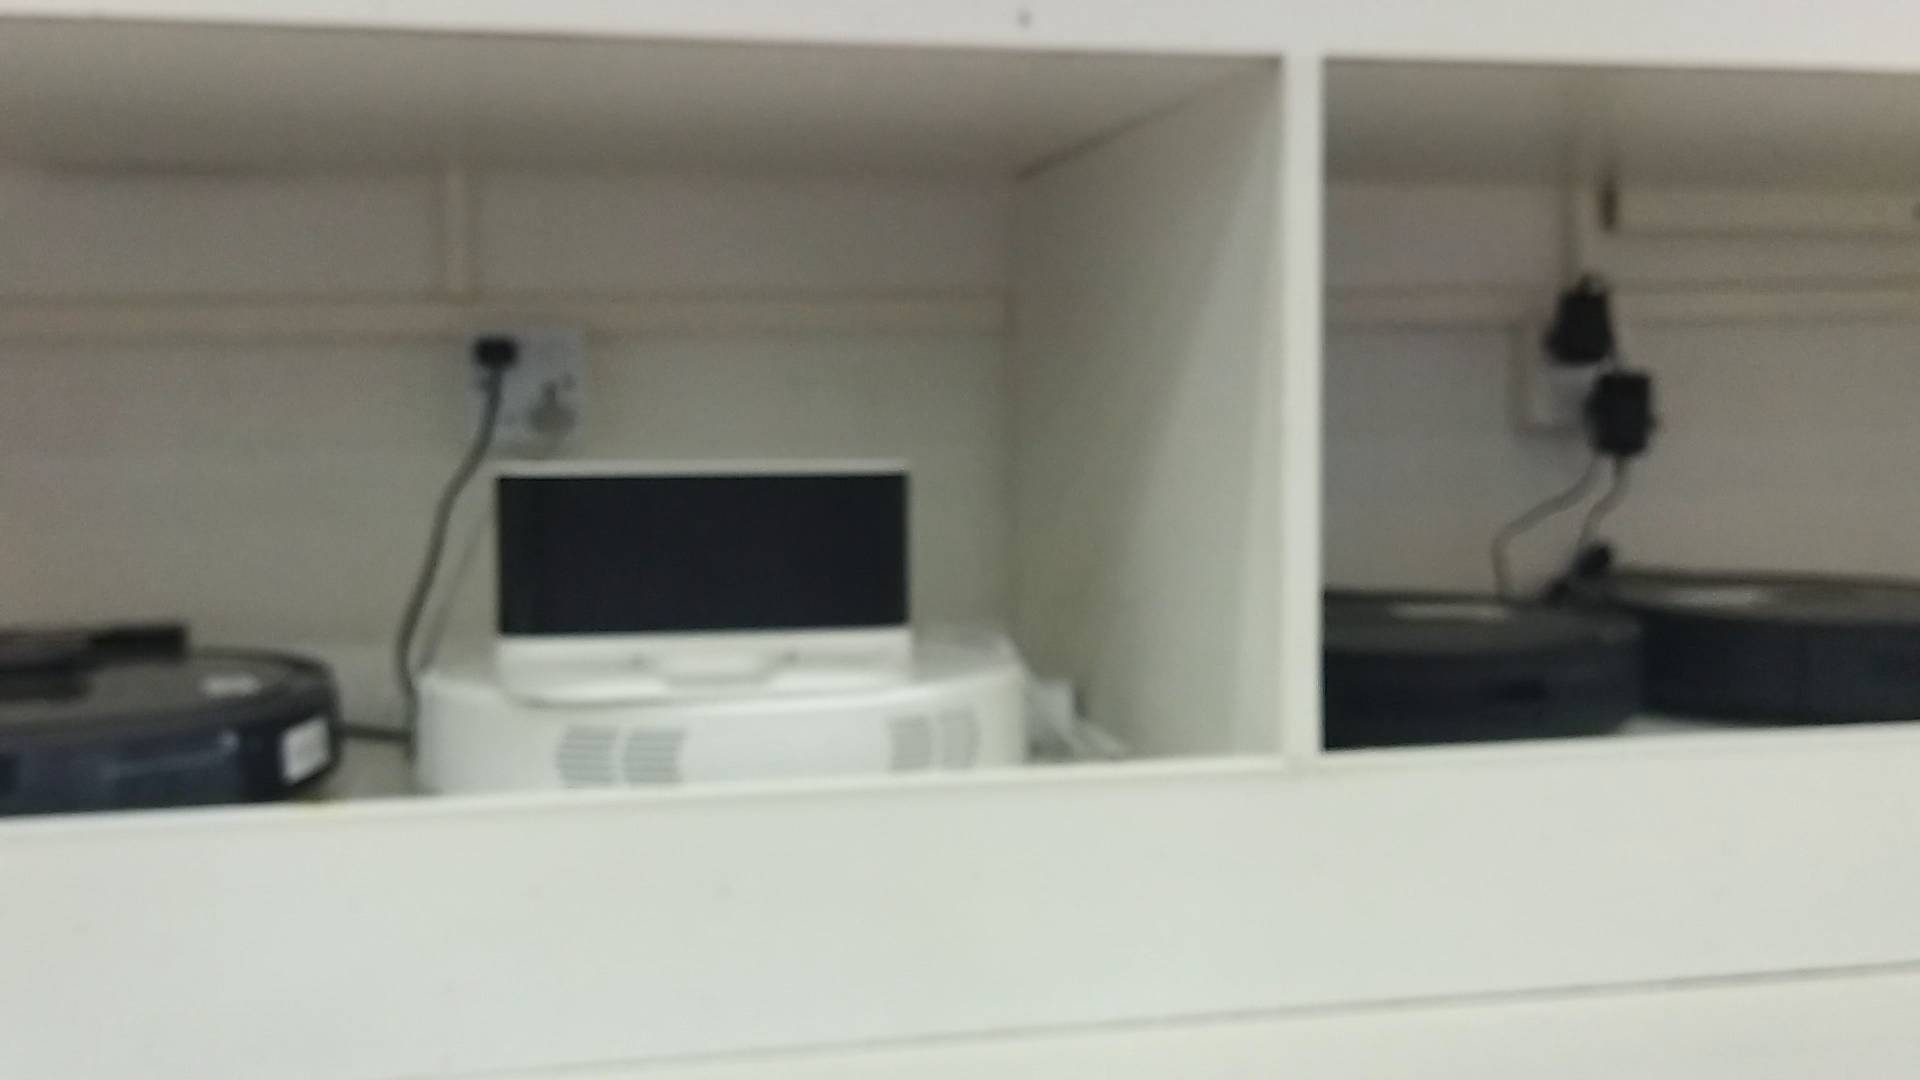recharge seat: (489, 458, 922, 705)
